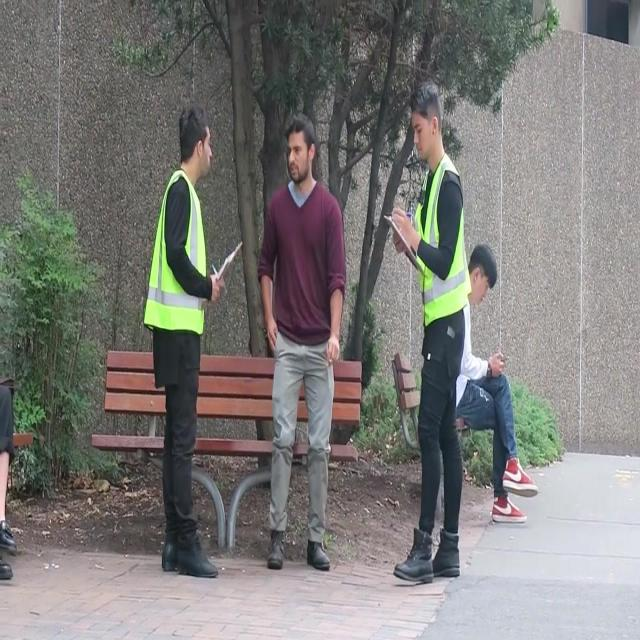Reflective-Jacket: (138, 167, 216, 352), (409, 156, 473, 334)
